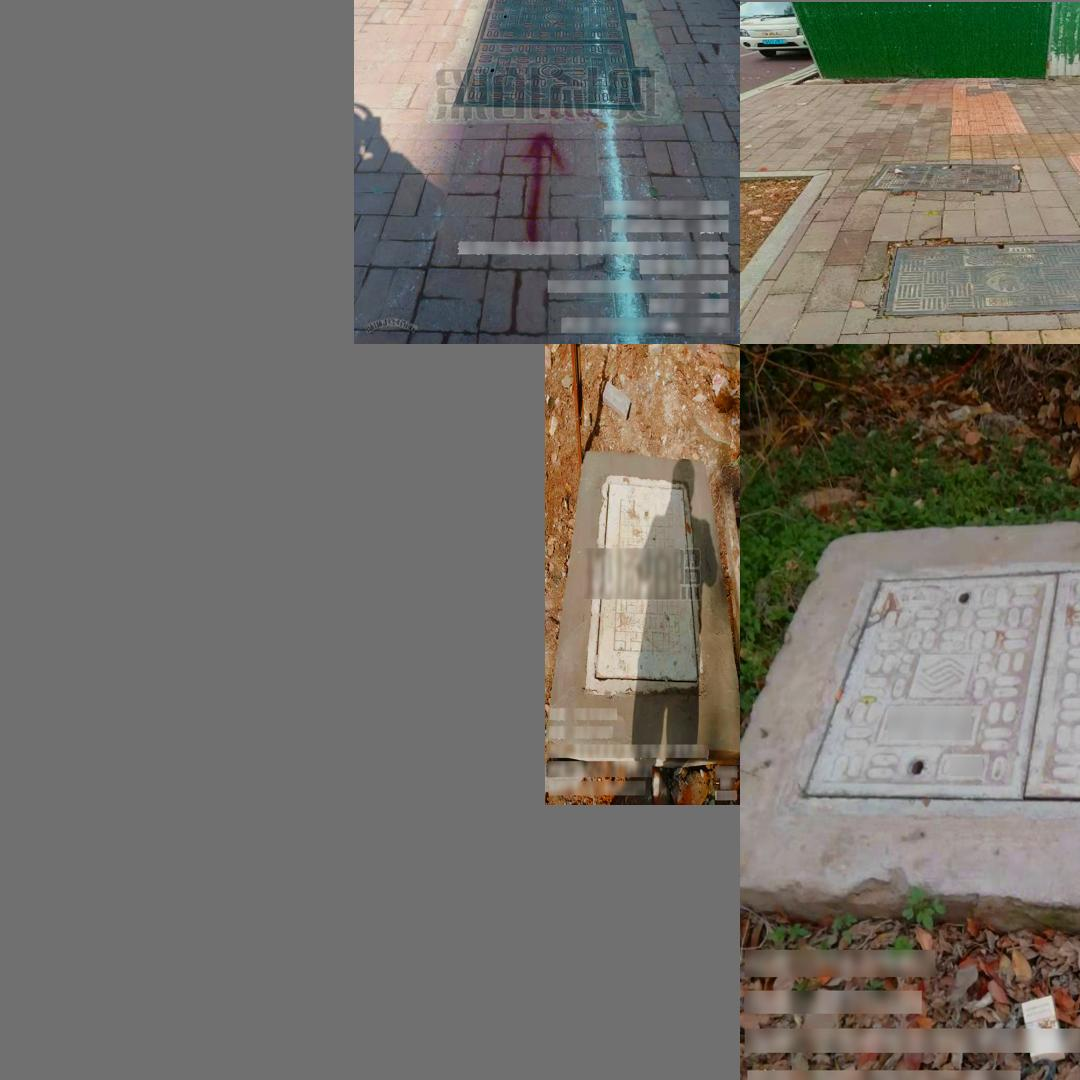good: (846, 556, 1080, 825), (585, 474, 703, 693), (450, 0, 651, 109), (876, 238, 1080, 318), (863, 161, 1020, 196)
